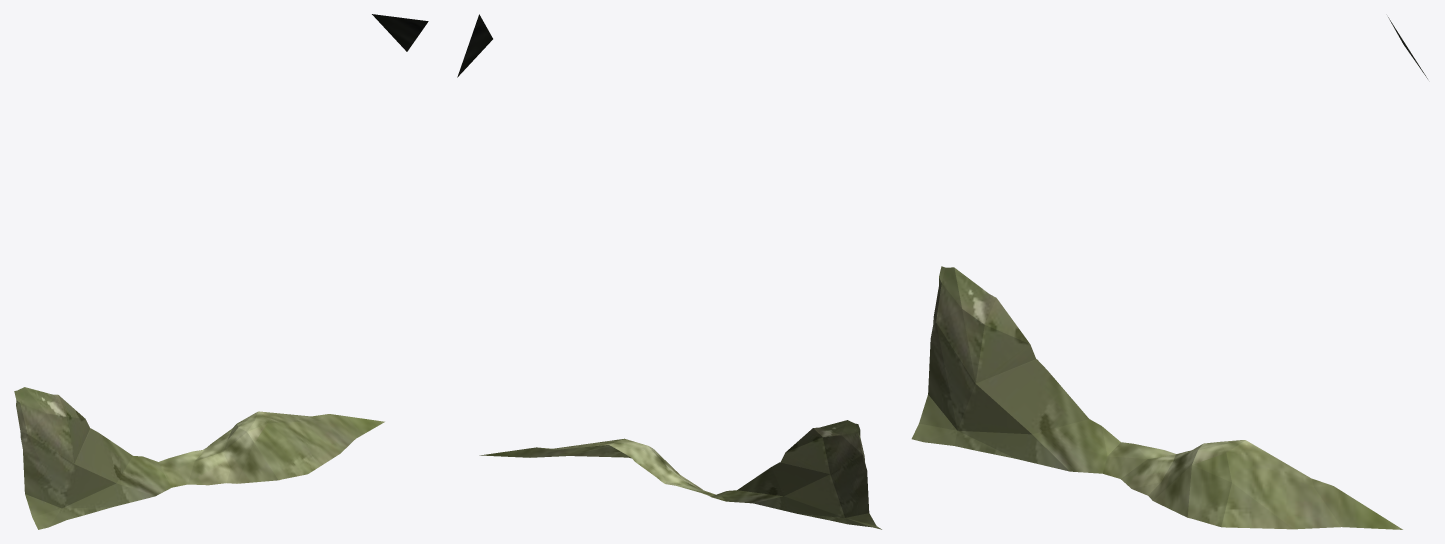
The picture shows the model from 3 angles, left to right: view 1: azimuth 30°, elevation 25°; view 2: azimuth 150°, elevation 25°; view 3: azimuth 330°, elevation 25°; orthographic projection. The views are drawn at different scales.
Size of the model in its own units: 2.95 by 2.95 by 0.4466.
Materials: 1 (1 with a texture image).
